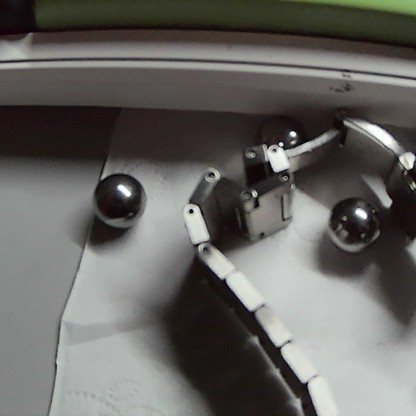ironball: (322, 185, 383, 255), (85, 167, 151, 229), (252, 111, 311, 161)
